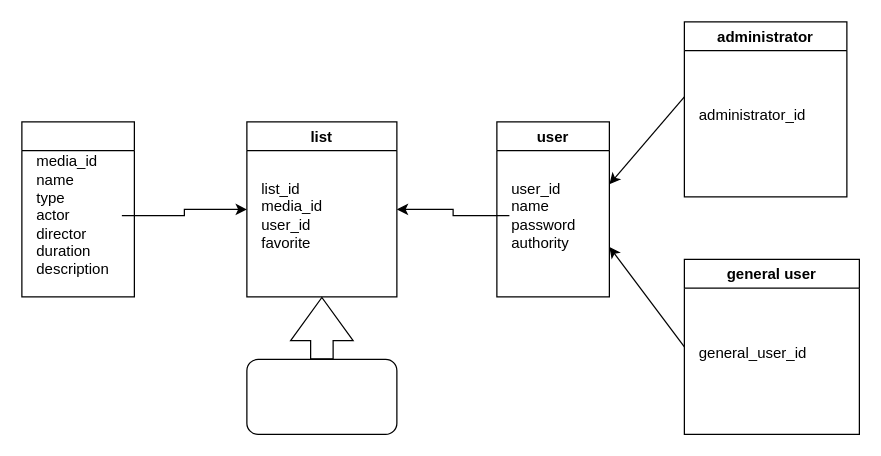
Image size: 881x456. Some labels were removed from this diagram. Each missing label, with the box of its shape:
favorite or not browsing records: (246, 358, 397, 434)
Medias: (21, 121, 134, 297)
